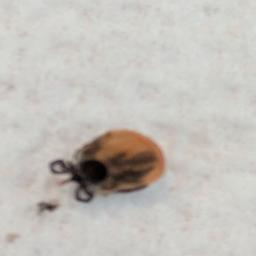Ixodes scapularis: (48, 128, 167, 202)
